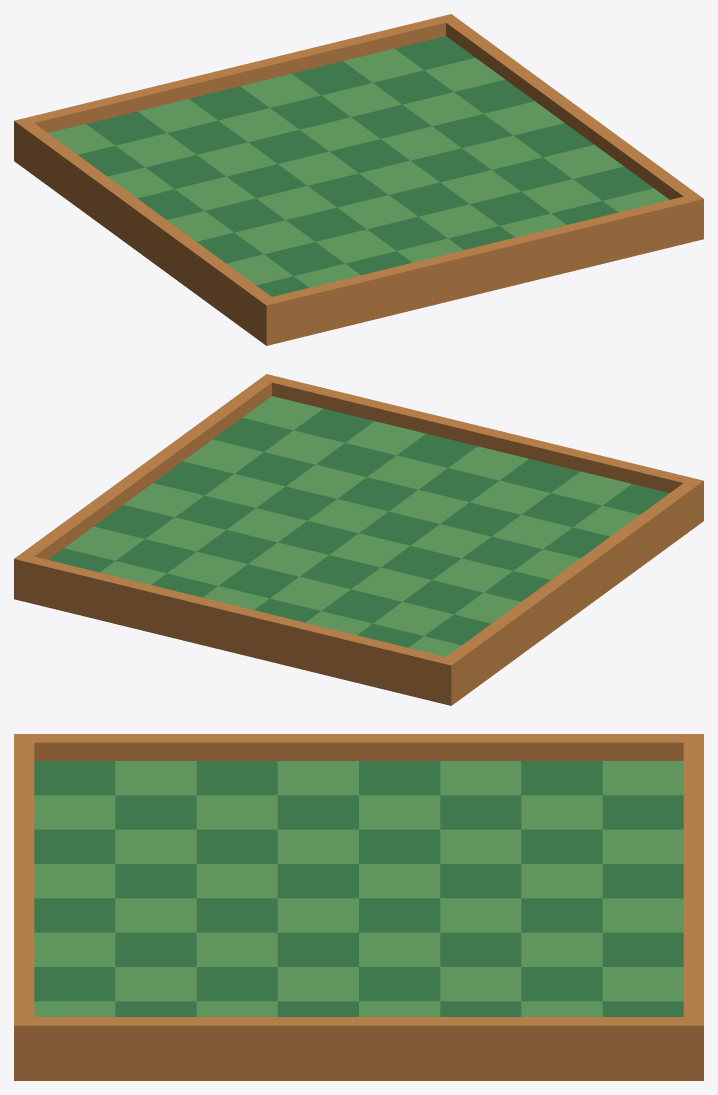
File: board.glb
3 views of the same model, one above another, from view 1: azimuth 30°, elevation 25°; view 2: azimuth 150°, elevation 25°; view 3: azimuth 270°, elevation 25° (orthographic). The views are drawn at different scales.
Visible parts, largest first — view 1: board-col; view 2: board-col; view 3: board-col.
Part boxes in pixels (left/top/right/bottom): board-col: left=14, top=14, right=703, bottom=345; board-col: left=14, top=374, right=703, bottom=705; board-col: left=14, top=734, right=703, bottom=1080.
Bounding box in the file's own units: 17 × 1.5 × 17.
1 material, 1 textured.
